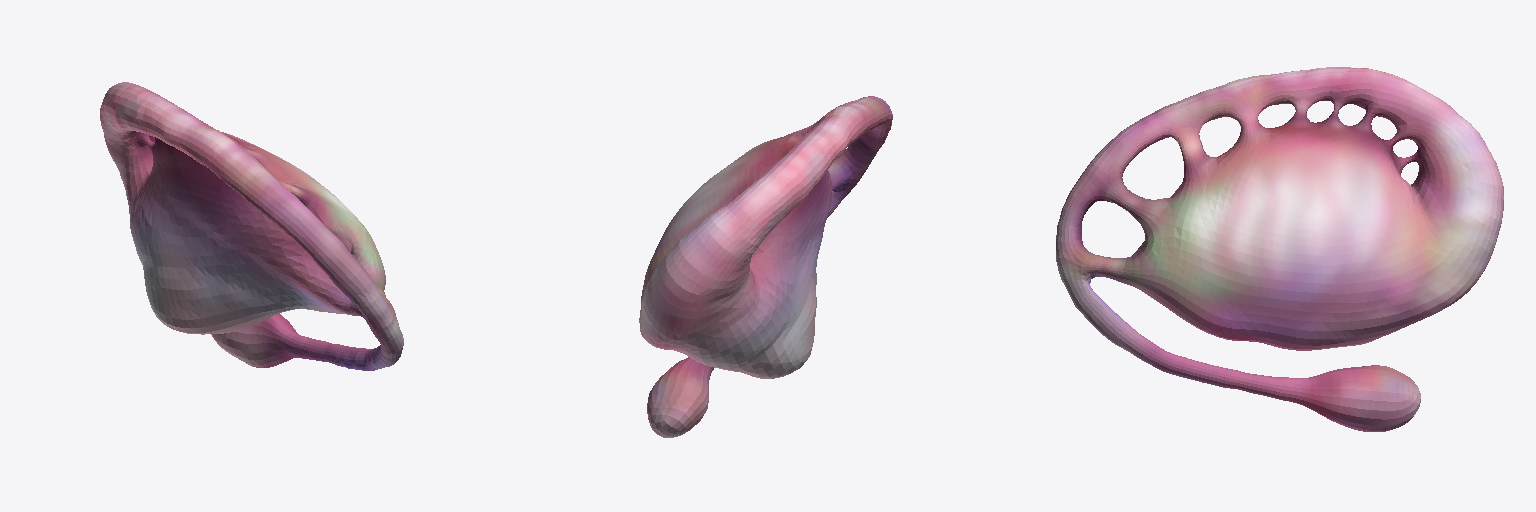
3 renders of one model, left to right at view 1: azimuth 30°, elevation 25°; view 2: azimuth 150°, elevation 25°; view 3: azimuth 270°, elevation 25°, orthographic.
Parts seen in each view (by area): view 1: Group63990; view 2: Group63990; view 3: Group63990.
Part boxes in pixels (bbox=[...]): Group63990: bbox=[100, 82, 403, 370]; Group63990: bbox=[639, 96, 892, 437]; Group63990: bbox=[1056, 67, 1503, 431].
Bounding box in the file's own units: 308 × 499 × 664.
1 materials, 1 textured.